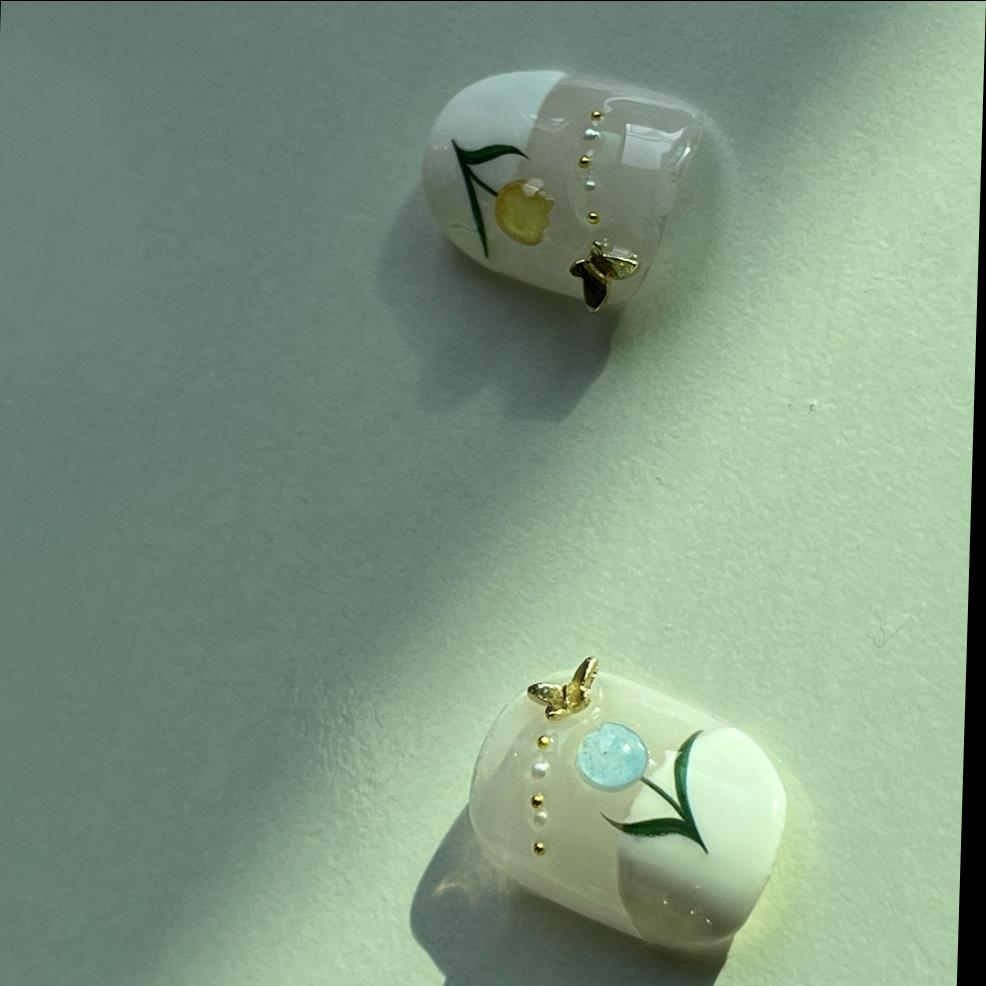nail: (416, 65, 708, 313)
